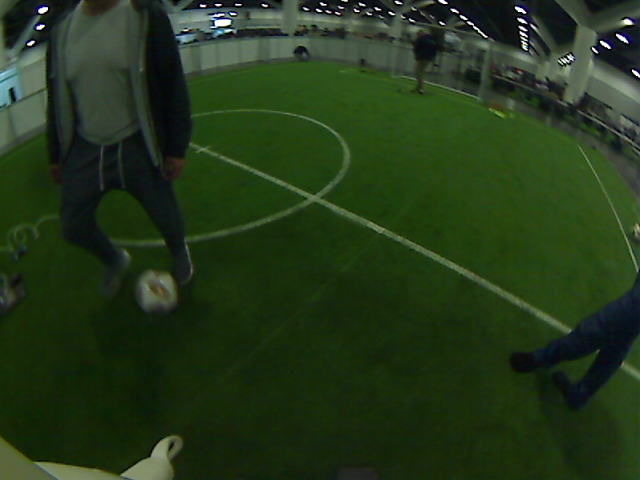ball: (134, 270, 177, 311)
goalpost: (388, 42, 400, 80), (476, 70, 484, 103)
